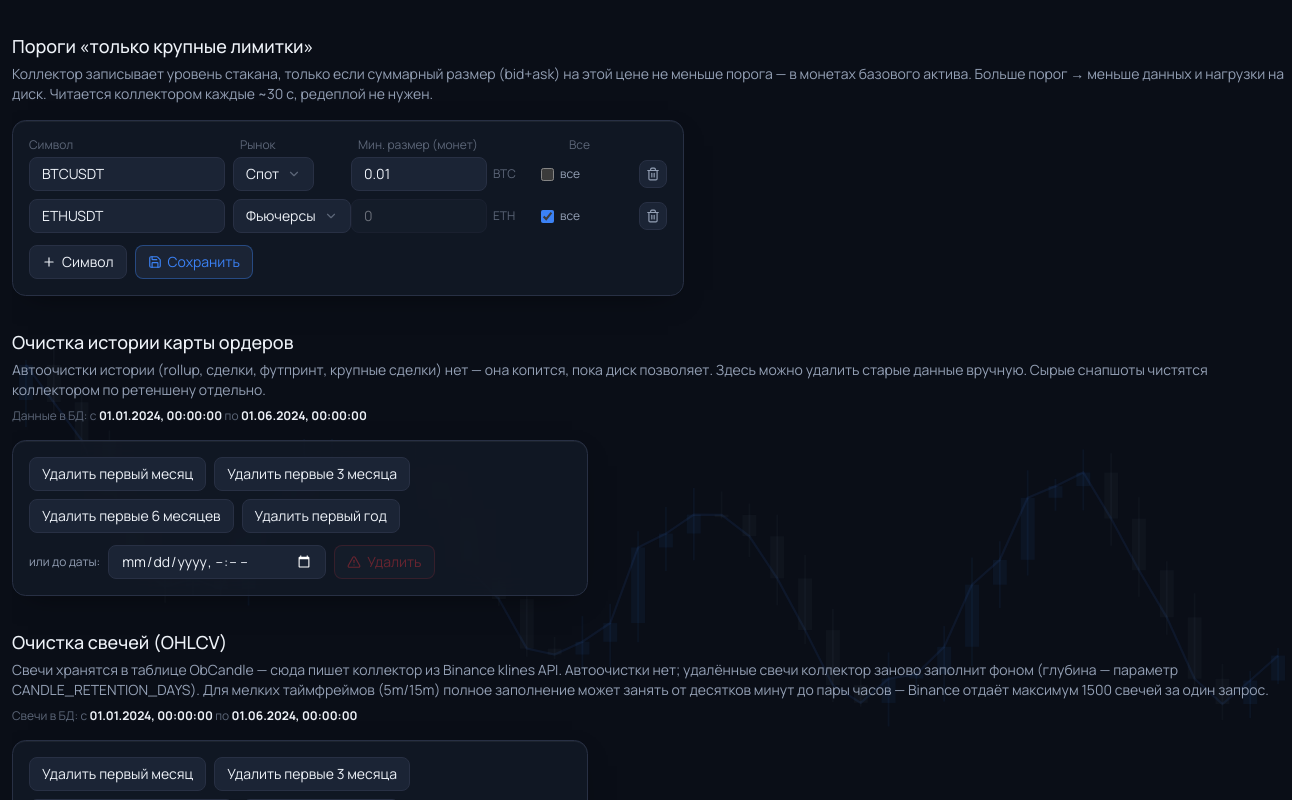
it: AdminCollectorConfig › saves config: filters invalid rows and sends PUT with normalized payload
Expected: the field showing "BTCUSDT" in the row of "BTC" is shown, [29,157,225,191]
Click the button "Символ": (78, 262) [29,245,126,279]
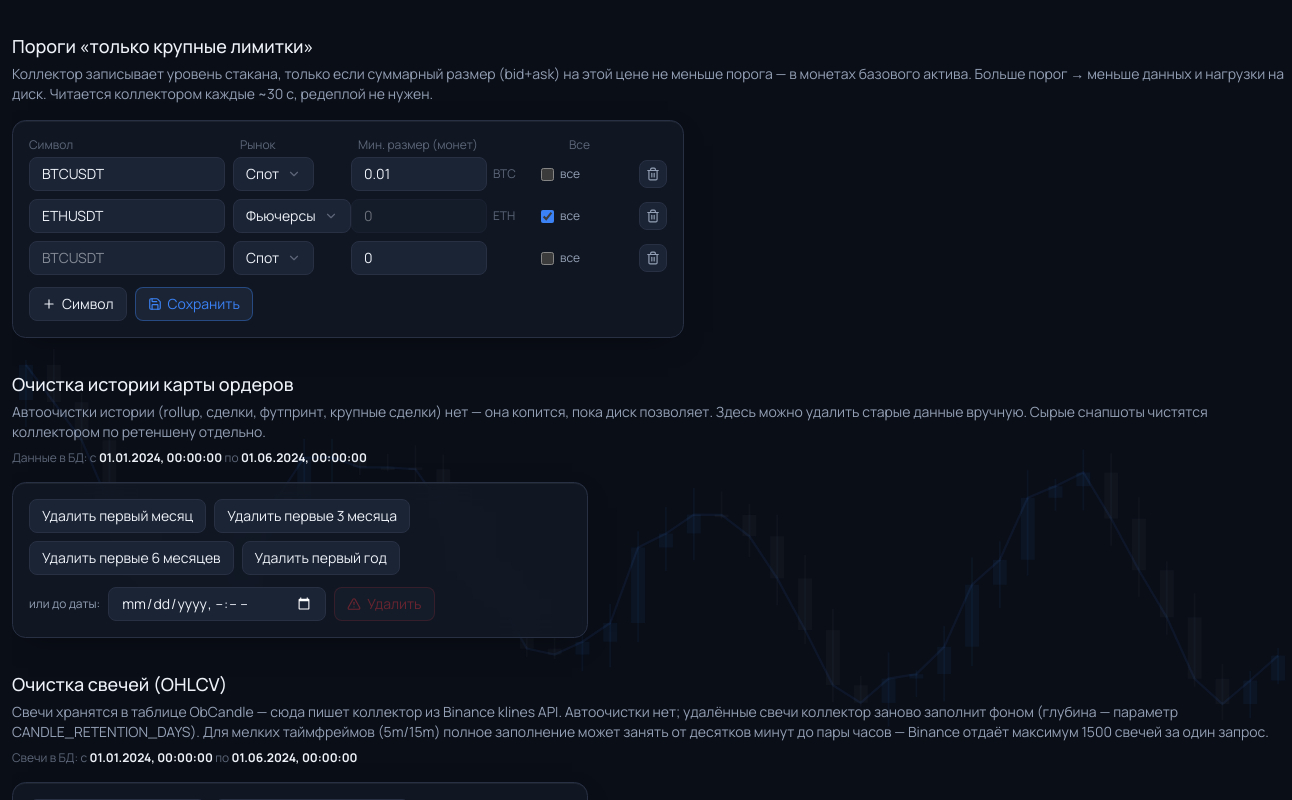
Click the button "Сохранить": (194, 304) [134,287,253,321]
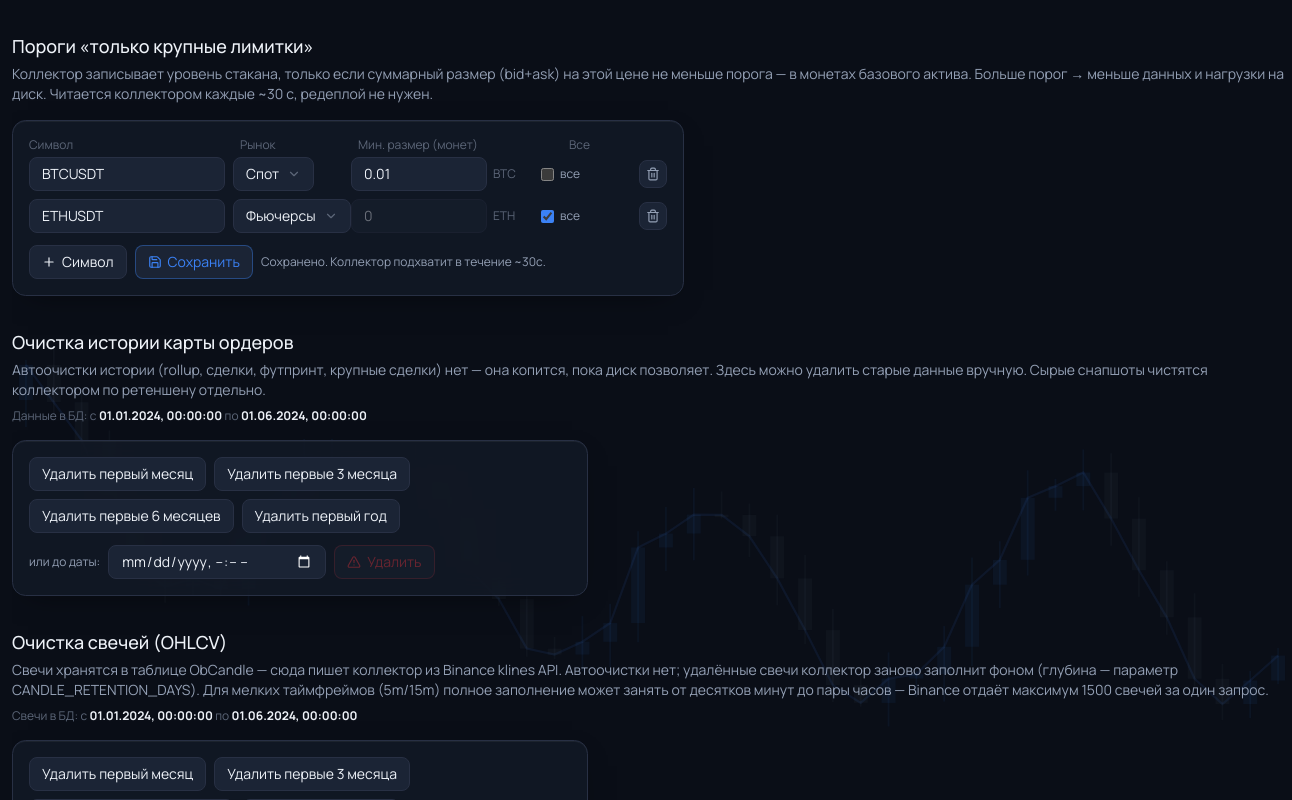
Expected: the text "Сохранено. Коллектор подхватит в течение ~30с." is shown, [261,254,546,270]
